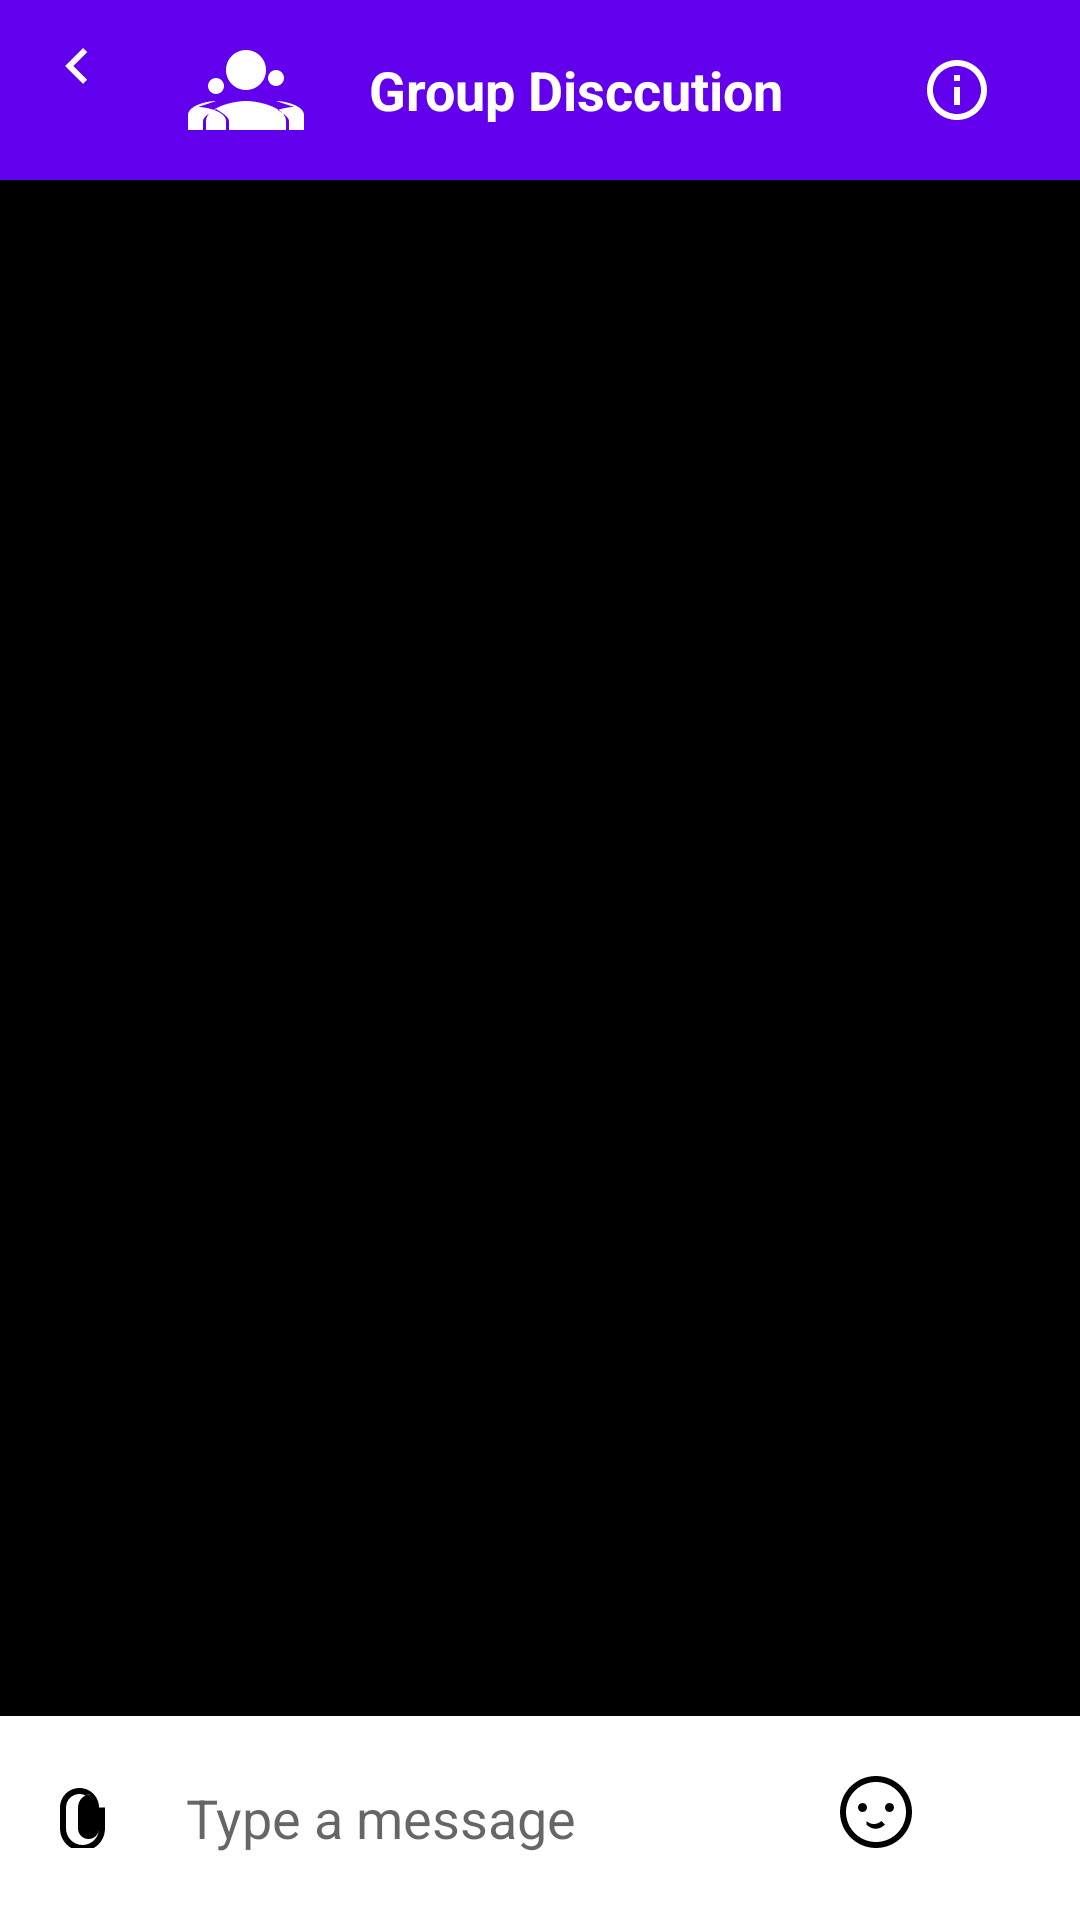

Screen size 1080px x 1920px. Icon name, then its center in pixels as (x,y):
Attachment: (82,1818)
Back: (76,66)
Emoji: (876,1812)
Group Info: (957,90)
